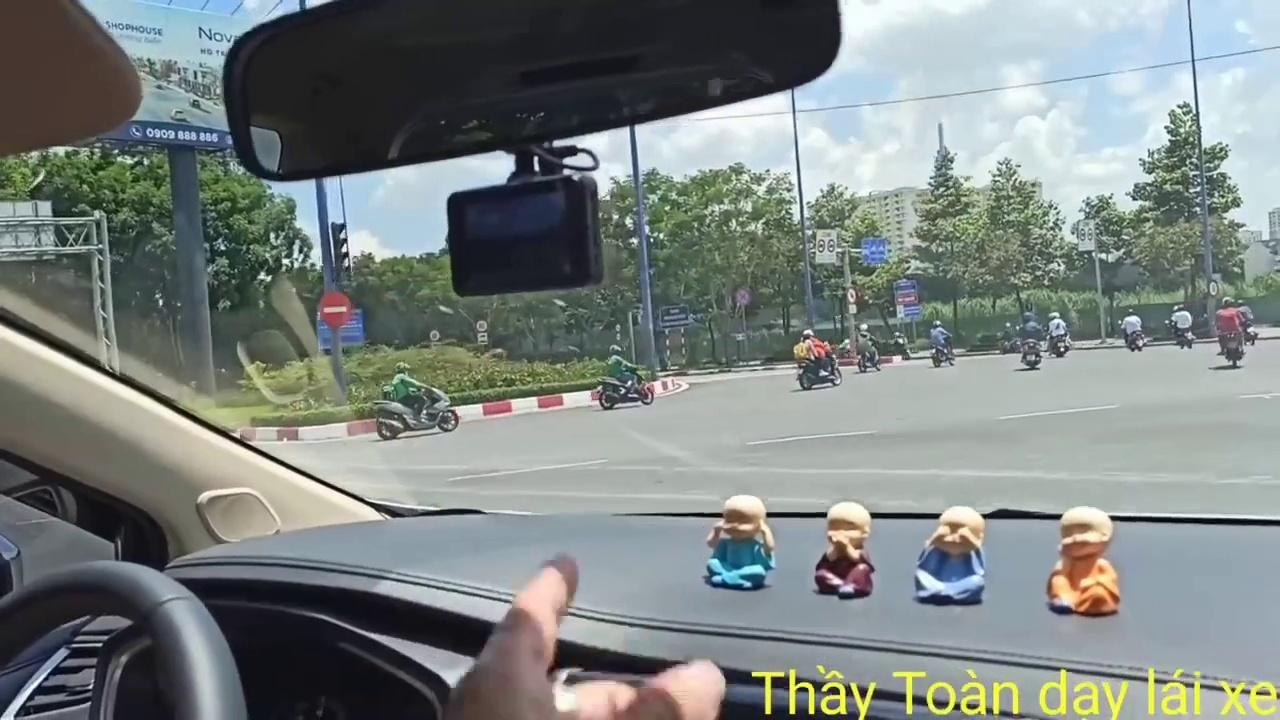Biển phụ: (477, 330, 489, 344)
Cấm cac phương tiện hoạt động trong khung giờ cố định: (815, 228, 837, 264)
Cấm dừng - Cấm đỗ: (735, 286, 750, 306)
Cấm đi ngược chiều: (319, 291, 353, 330)
Khác: (894, 275, 922, 321)
Làn đường cho từng xe: (860, 236, 886, 264)
